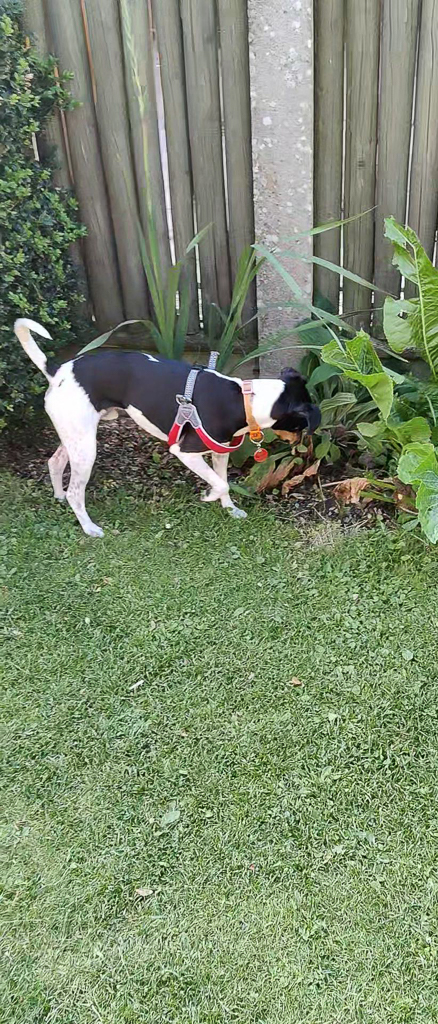Dog: (6, 311, 334, 546)
